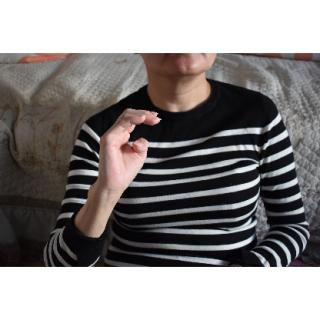JEEM: (94, 104, 163, 209)
